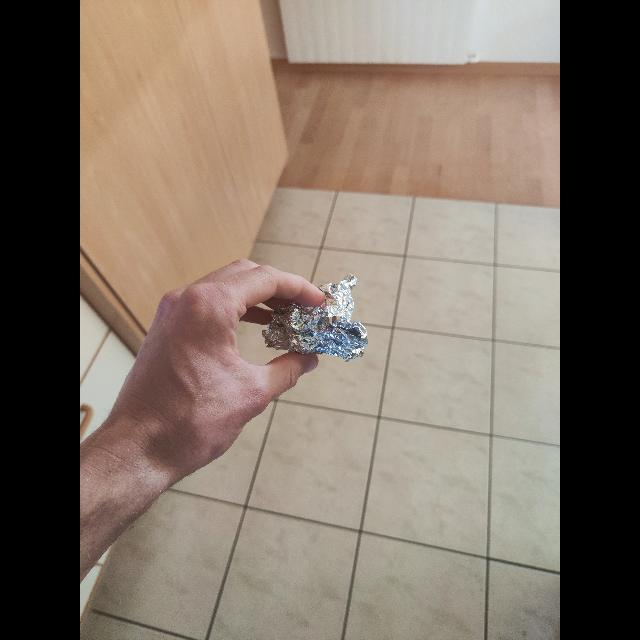Metal: (251, 272, 369, 362)
